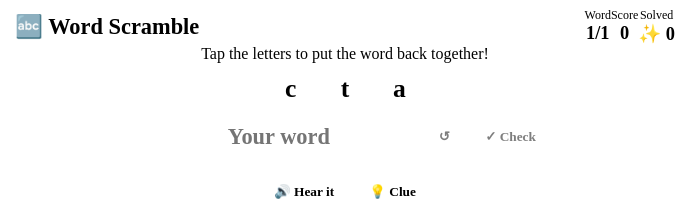
it: Word Scramble › does not mark half a word
This screenshot has width=692, height=216.
In the field labelled "Your word": coordinates (279, 137) [136,114,421,159], type "ca"
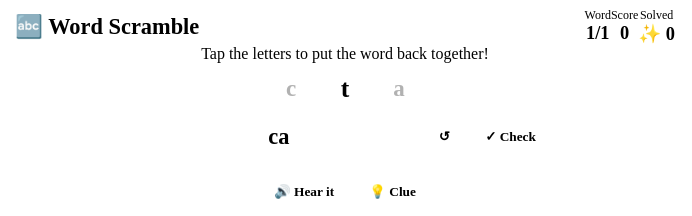
Press Enter in the field named "Your word", box [136,114,421,159]
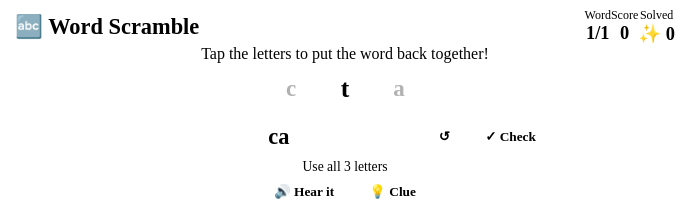
Check: the text "Use all 3 letters" is shown, box [302,159,387,174]
